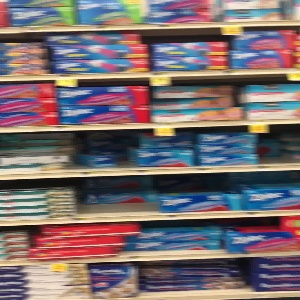void: (76, 174, 158, 216), (75, 132, 137, 169), (258, 126, 300, 165)
